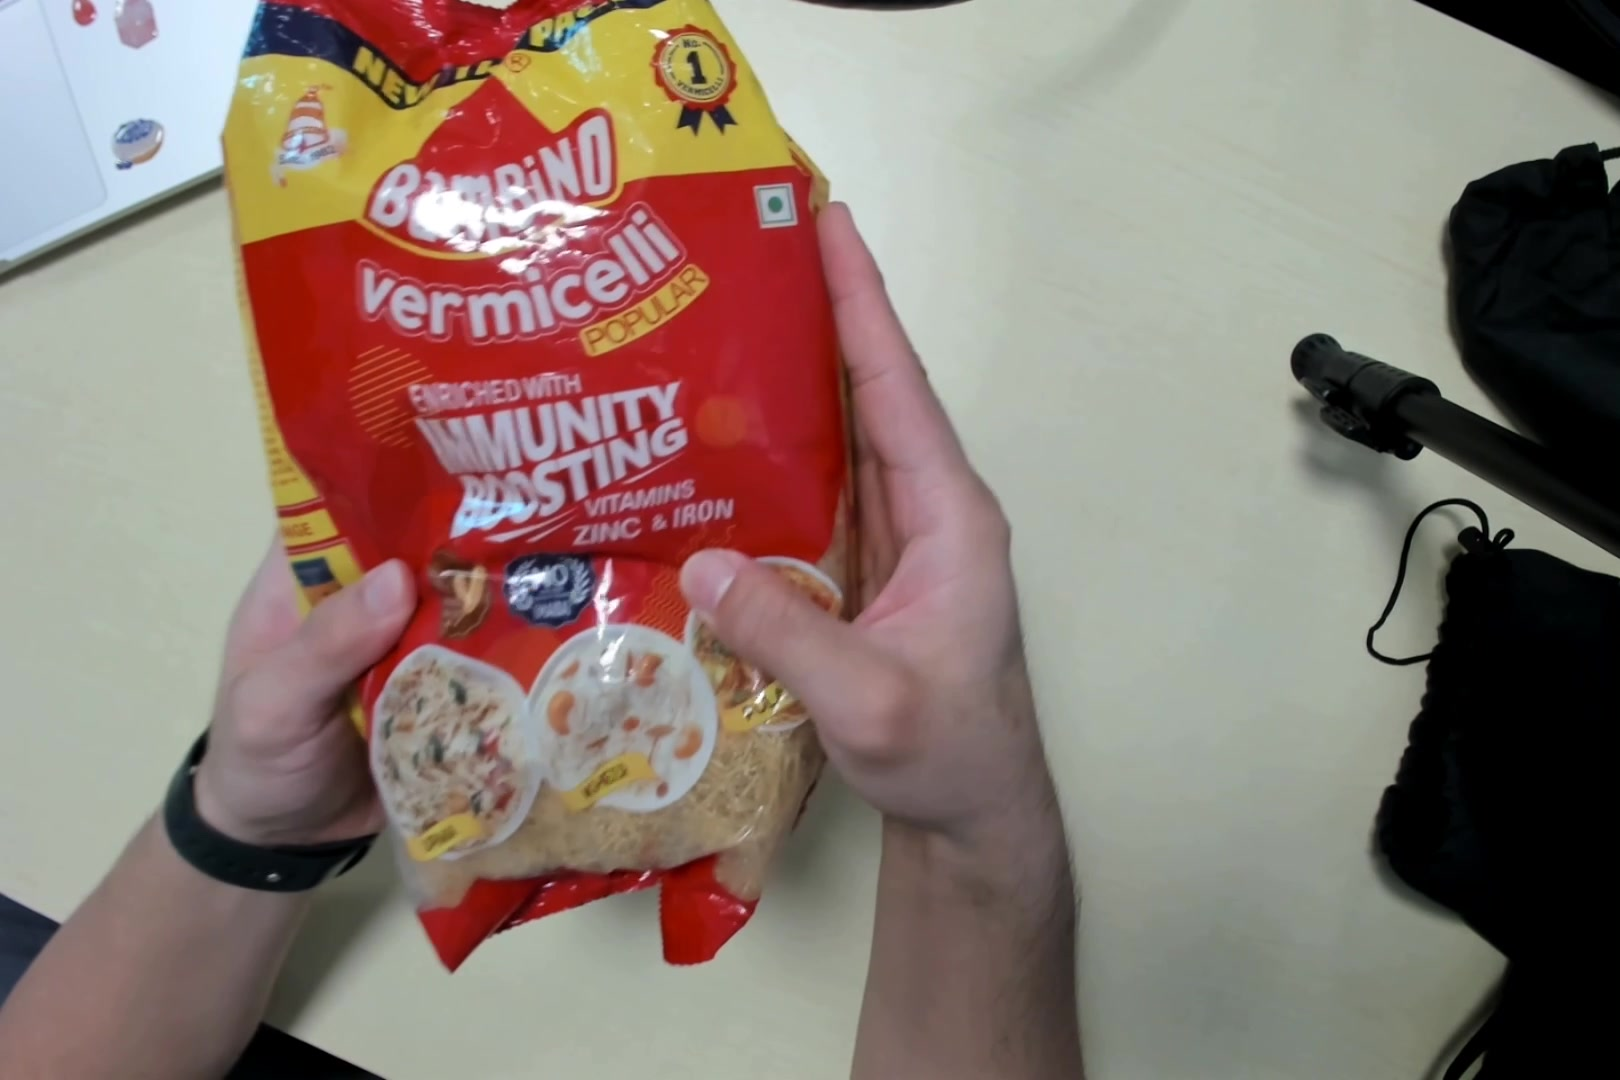OtherNoodles_300-399g_Halal_NonHealthy: (231, 1, 867, 959)
